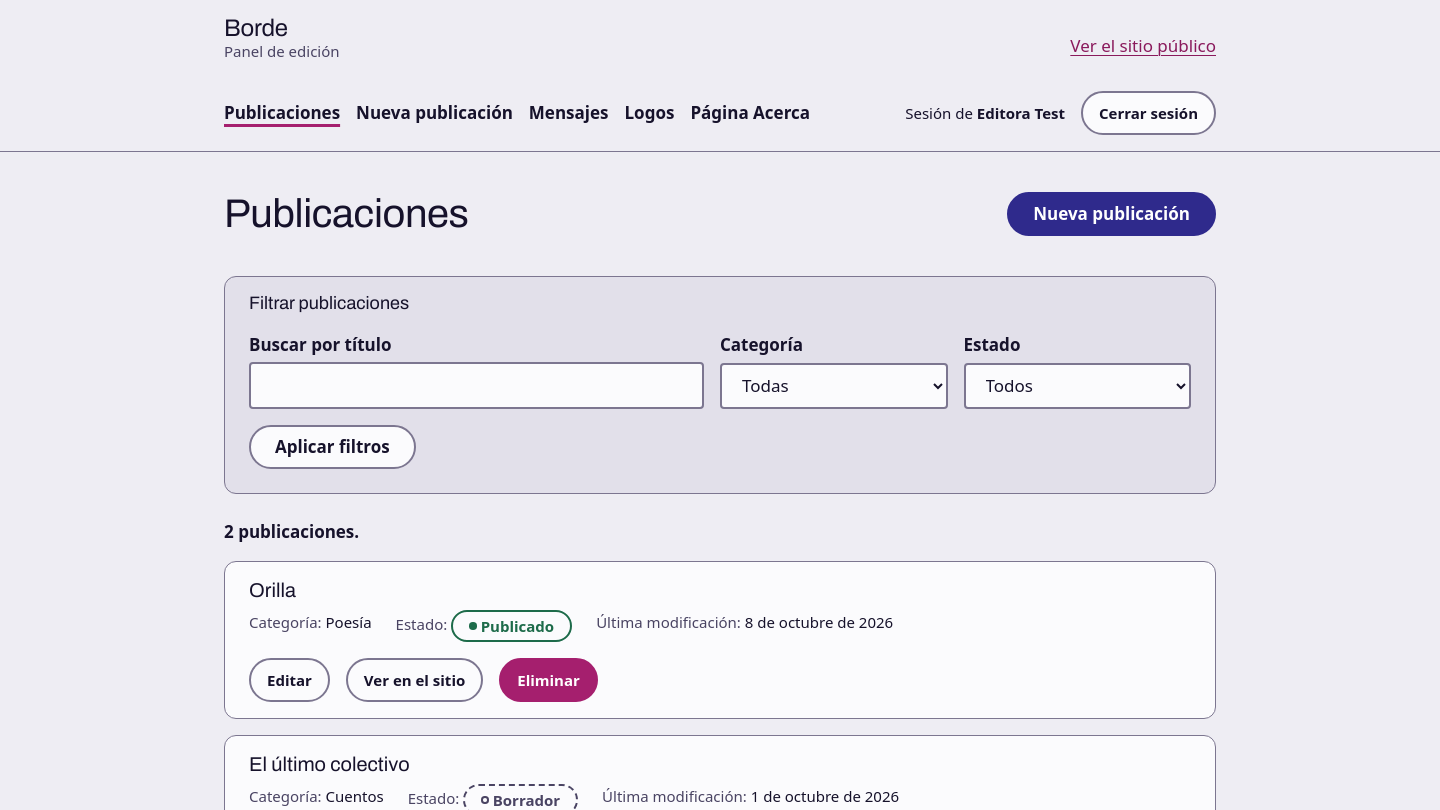
Test case: Listado del panel › eliminar pide confirmación; Cancelar no borra y devuelve el foco
Expected: the heading "Publicaciones" is shown, [224,192,468,236]
Step 1. Click the button named "Eliminar «Orilla»" → (549, 680), box [499,658,598,702]
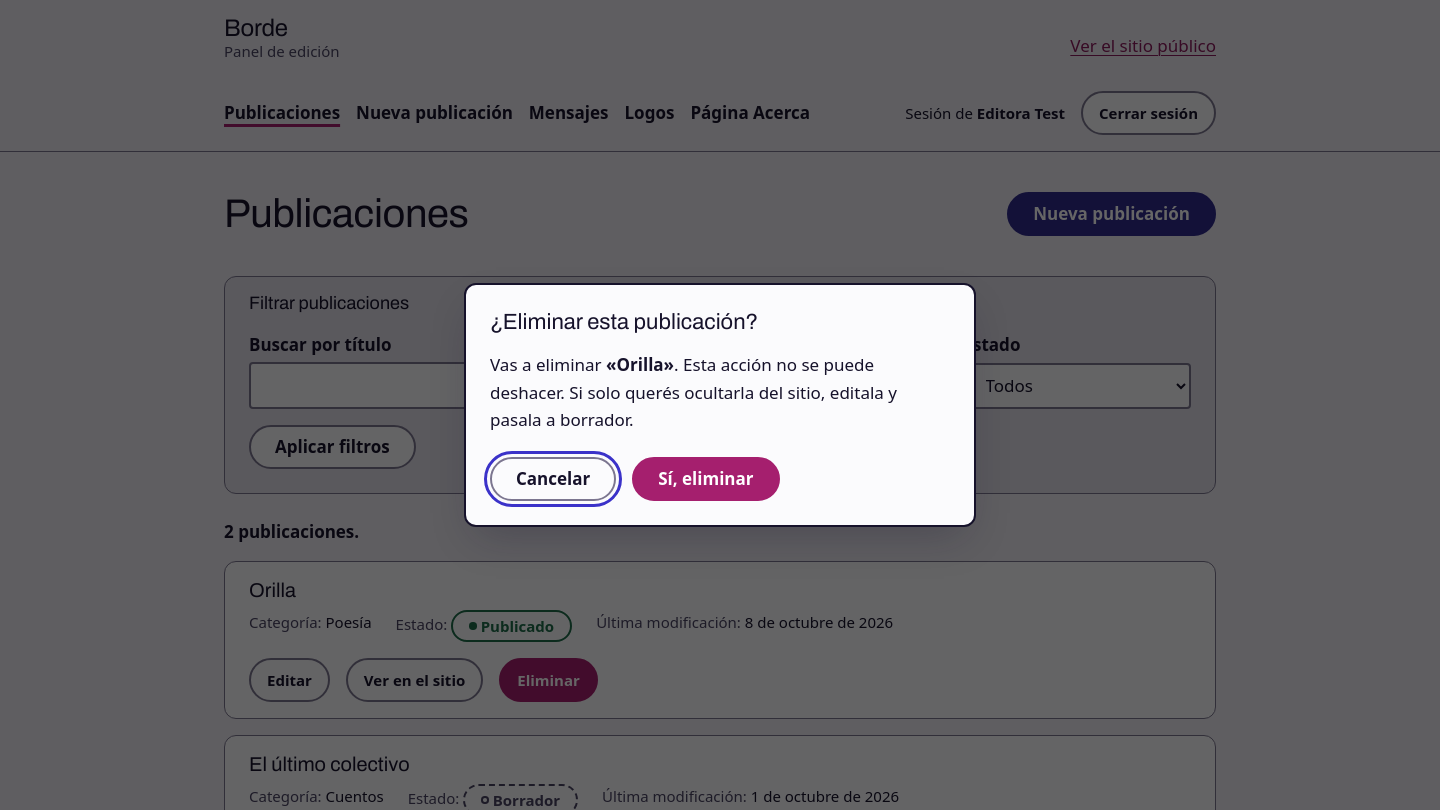
Step 2. Click the button "Cancelar" → (553, 479), box [490,457,616,501]
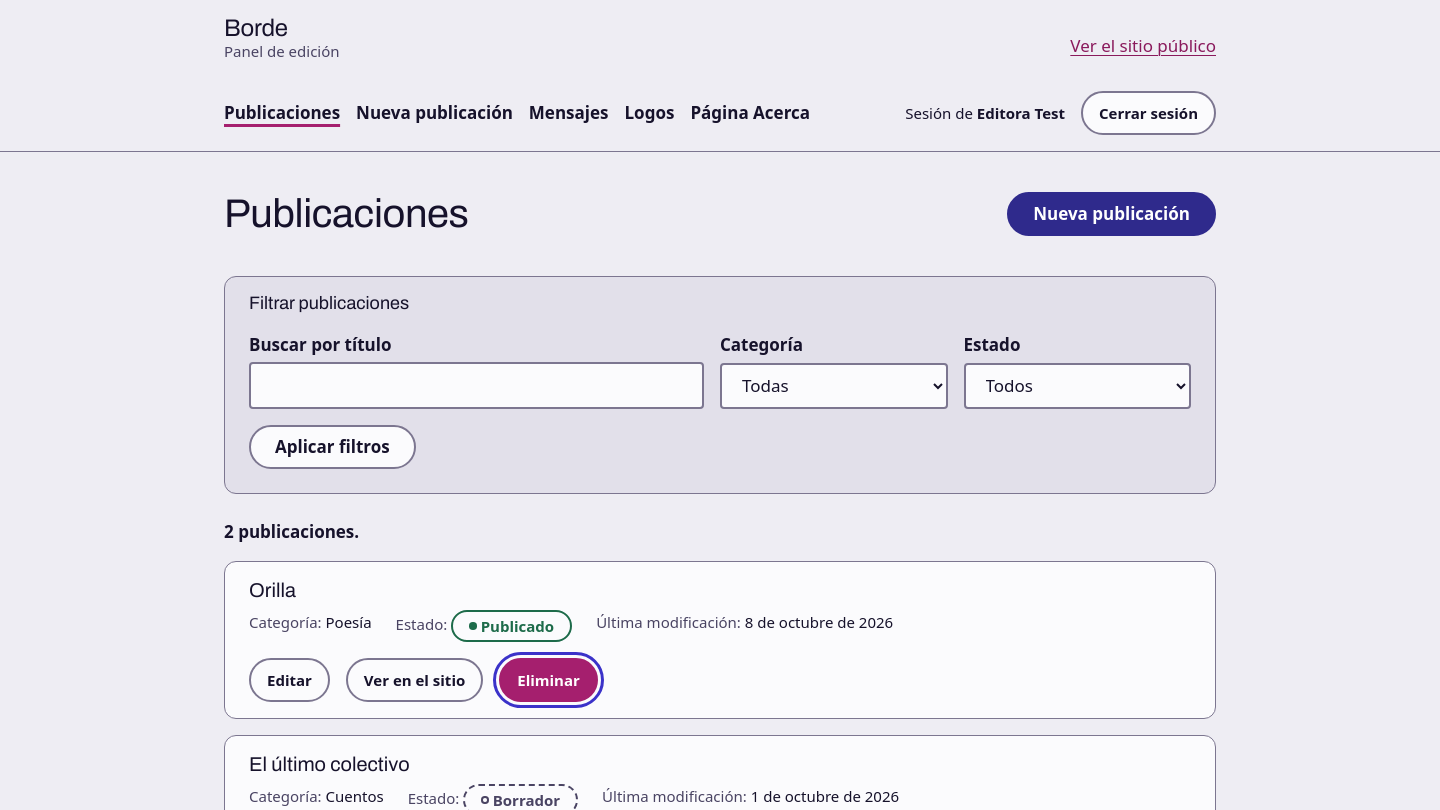
Expected: the dialog is gone
